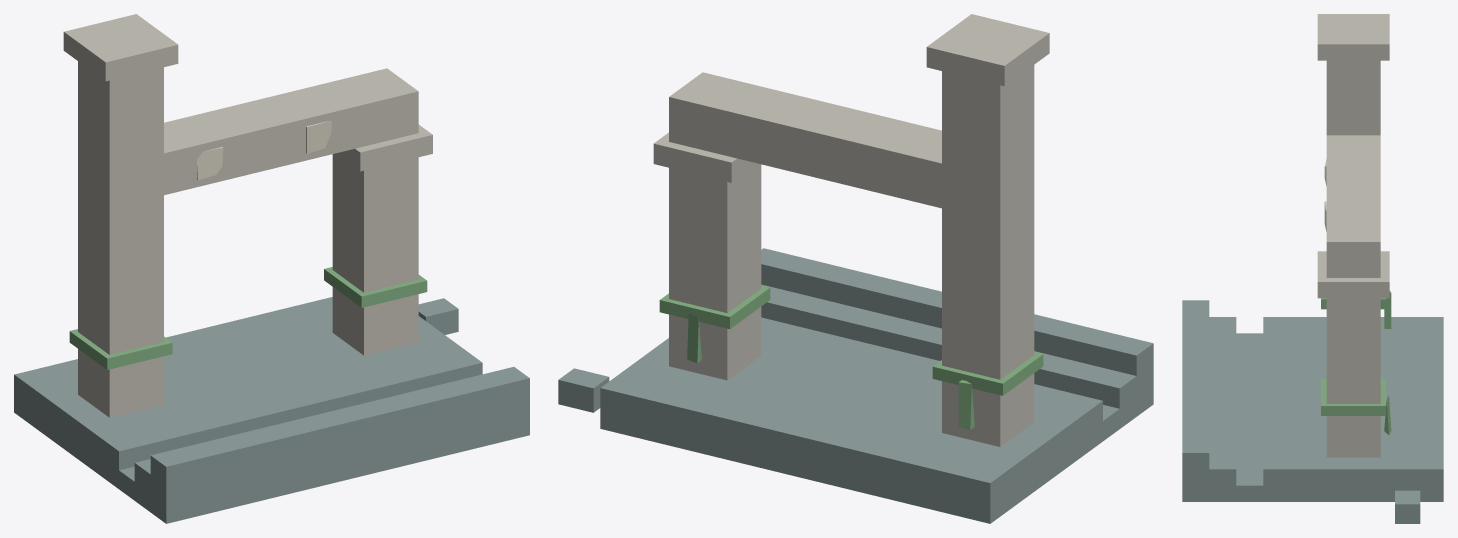
The model's file is 25-Ruinas-Templos_estructura_sumergida.glb.
3 views of the same model, side by side, from view 1: azimuth 30°, elevation 25°; view 2: azimuth 150°, elevation 25°; view 3: azimuth 270°, elevation 25° (orthographic). The views are drawn at different scales.
Visible parts, largest first — view 1: SM_Sumerg_Base_NOFUNDIR, SM_Sumerg_Portico_Izq_NOFUNDIR, SM_Sumerg_Portico_Der_NOFUNDIR, SM_Sumerg_Bandas_NOFUNDIR, SM_Sumerg_M_Sumerg_Tallado; view 2: SM_Sumerg_Base_NOFUNDIR, SM_Sumerg_Portico_Izq_NOFUNDIR, SM_Sumerg_Portico_Der_NOFUNDIR, SM_Sumerg_Bandas_NOFUNDIR, SM_Sumerg_M_Sumerg_Algas; view 3: SM_Sumerg_Base_NOFUNDIR, SM_Sumerg_Portico_Izq_NOFUNDIR, SM_Sumerg_Portico_Der_NOFUNDIR, SM_Sumerg_Bandas_NOFUNDIR, SM_Sumerg_M_Sumerg_Algas.
Part boxes in pixels (bbox=[...]): SM_Sumerg_Base_NOFUNDIR: bbox=[14, 297, 529, 523]; SM_Sumerg_Portico_Izq_NOFUNDIR: bbox=[63, 14, 418, 417]; SM_Sumerg_Portico_Der_NOFUNDIR: bbox=[332, 124, 432, 355]; SM_Sumerg_Bandas_NOFUNDIR: bbox=[69, 267, 427, 369]; SM_Sumerg_M_Sumerg_Tallado: bbox=[197, 120, 331, 180]; SM_Sumerg_Base_NOFUNDIR: bbox=[558, 248, 1153, 523]; SM_Sumerg_Portico_Izq_NOFUNDIR: bbox=[669, 14, 1049, 446]; SM_Sumerg_Portico_Der_NOFUNDIR: bbox=[653, 132, 761, 380]; SM_Sumerg_Bandas_NOFUNDIR: bbox=[659, 285, 1043, 395]; SM_Sumerg_M_Sumerg_Algas: bbox=[687, 314, 974, 429]; SM_Sumerg_Base_NOFUNDIR: bbox=[1182, 300, 1443, 523]; SM_Sumerg_Portico_Izq_NOFUNDIR: bbox=[1317, 14, 1389, 277]; SM_Sumerg_Portico_Der_NOFUNDIR: bbox=[1317, 251, 1389, 457]; SM_Sumerg_Bandas_NOFUNDIR: bbox=[1321, 298, 1385, 415]; SM_Sumerg_M_Sumerg_Algas: bbox=[1384, 290, 1391, 434].
Size of the model in its own units: 2.29 by 2.1 by 1.45.
